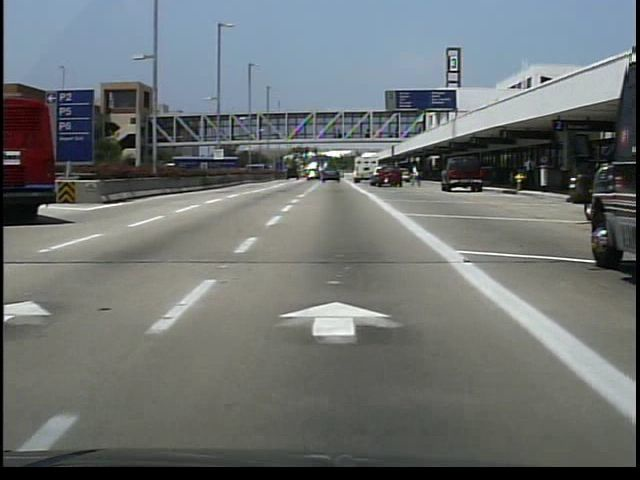person: (520, 156, 539, 198), (410, 168, 424, 190)
